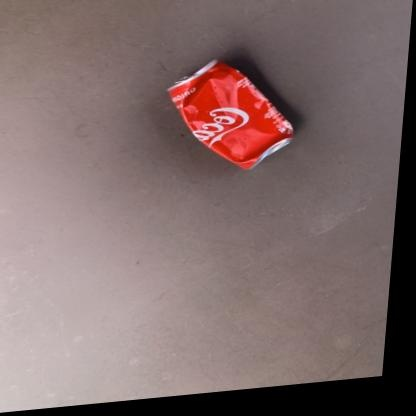trash: (168, 60, 292, 168)
